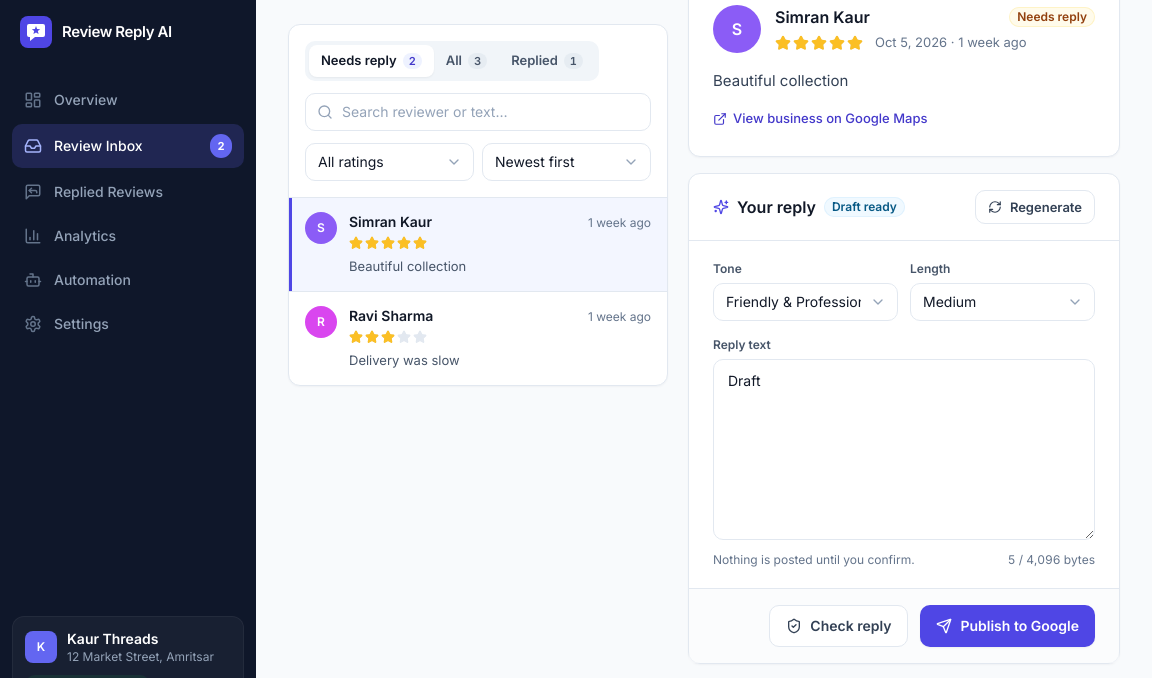
Test: Reply workspace › treats an unconfirmed publish response as not published
(page scrolled)
Expected: the text box labelled "Reply text" holds "Draft", [713, 359, 1095, 540]
Click the button "Publish to Google".
click(1008, 626)  # box [920, 605, 1095, 647]
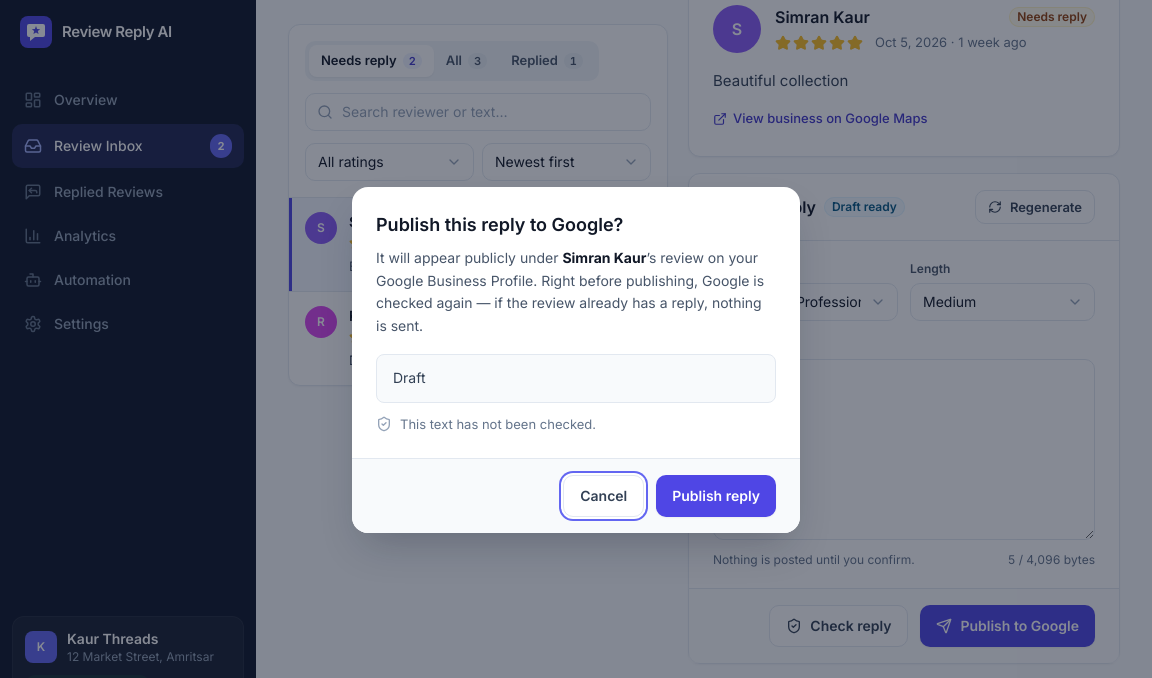
Click the button "Publish reply".
click(716, 496)  # box [656, 475, 776, 517]
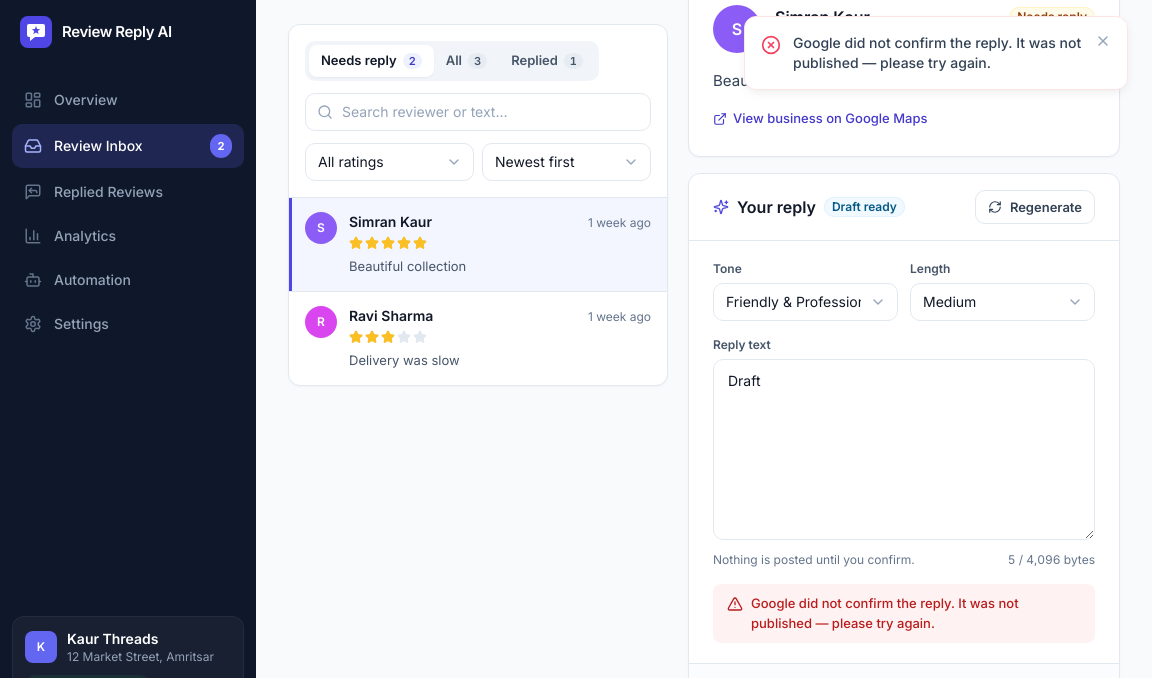
Now the message "Google did not confirm the reply. It was not published — please try again." below "Nothing is posted until you confirm." is shown, box [751, 595, 1019, 631]
